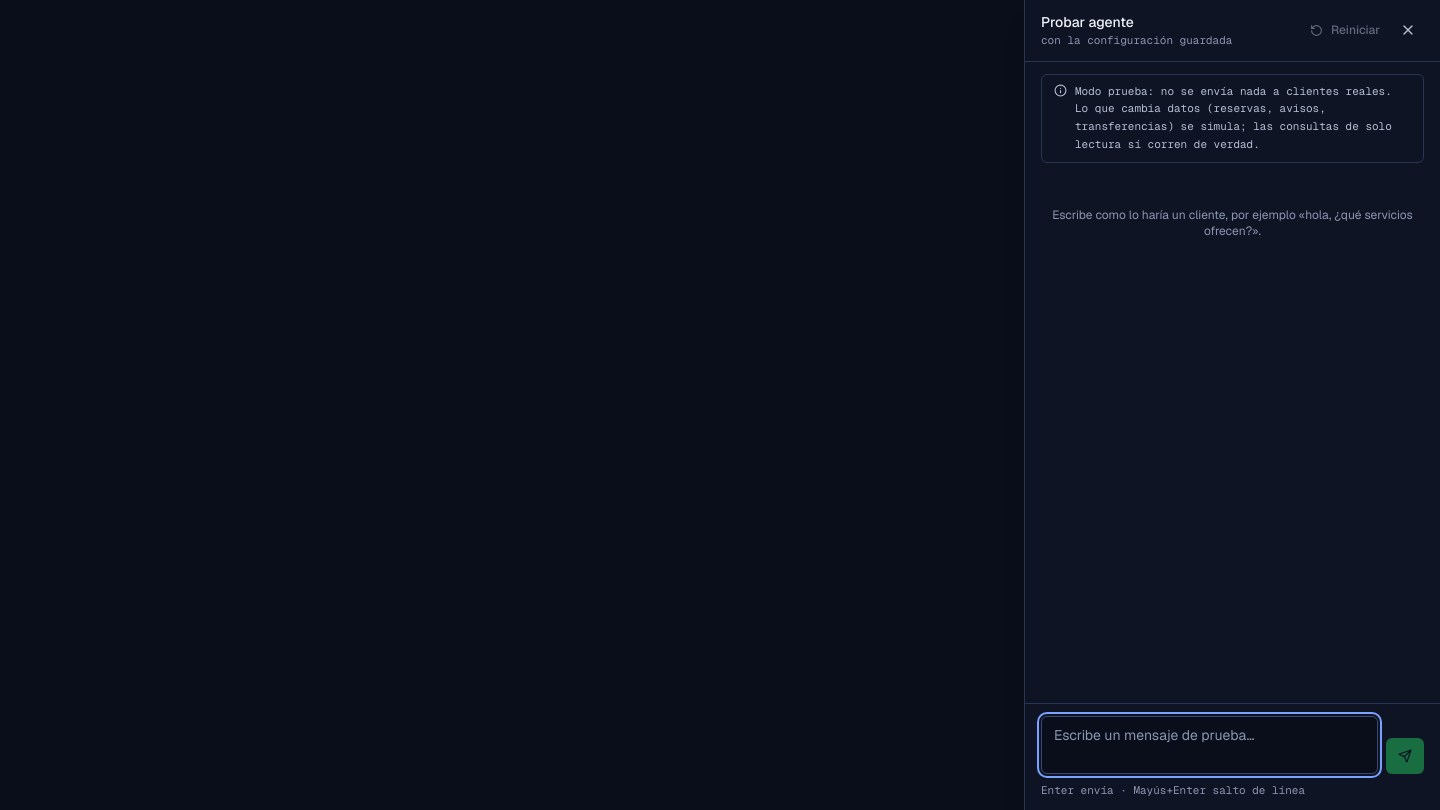
Test: si falla, el mensaje vuelve al cuadro y se explica el error
Type "hola" into the text box labelled "mensaje de prueba".
click(1210, 744); type("hola")  # box [1041,716,1378,774]
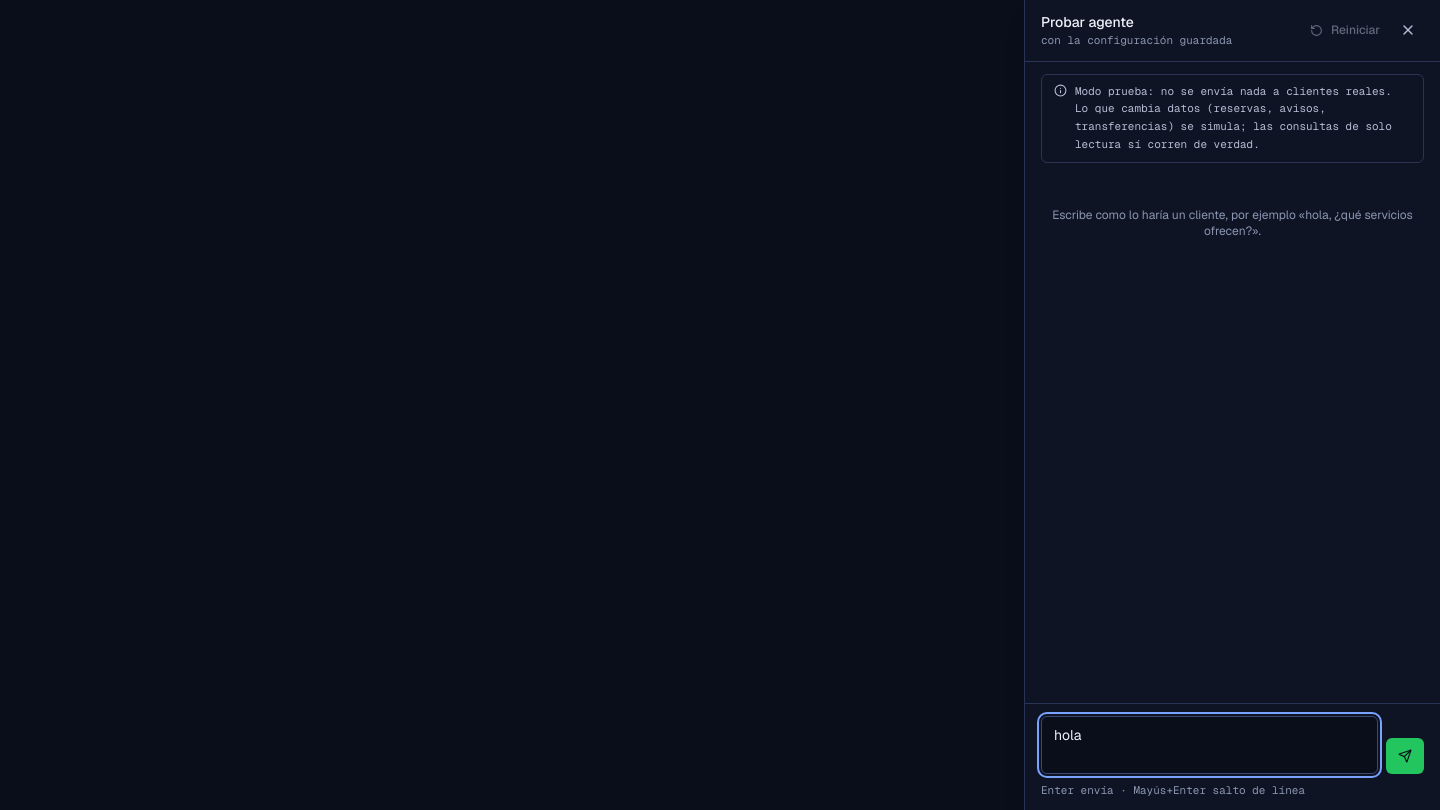
Click the button named "Enviar".
click(1405, 756)  # box [1386,738,1424,774]
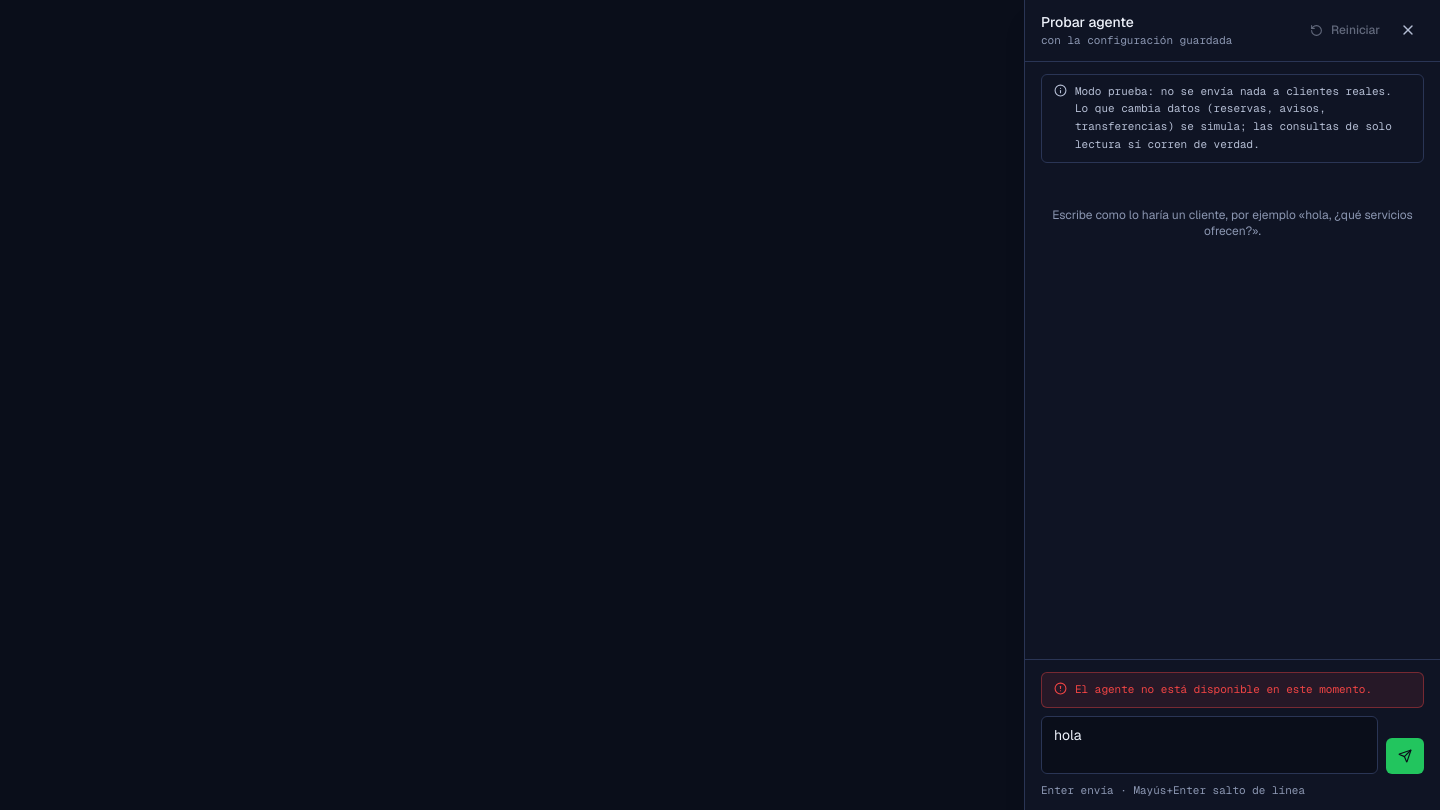
Expected: the text "El agente no está disponible en este momento." is shown, [1075,681,1411,698]
